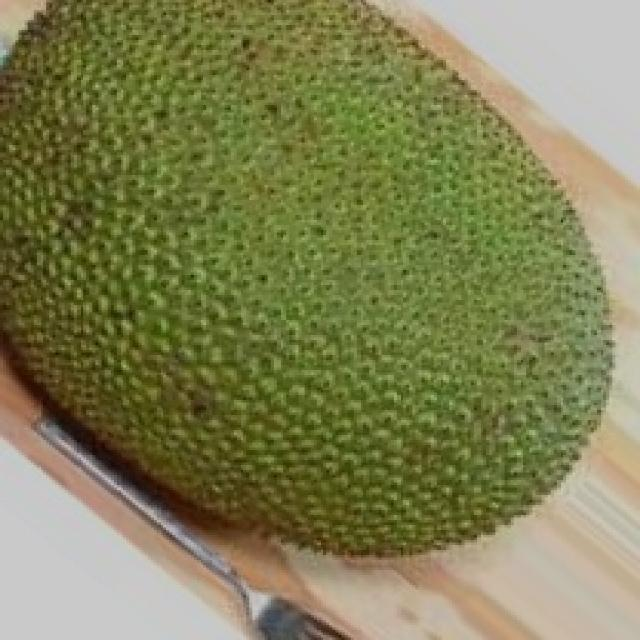Fruit: (0, 0, 403, 400), (271, 0, 640, 318)
